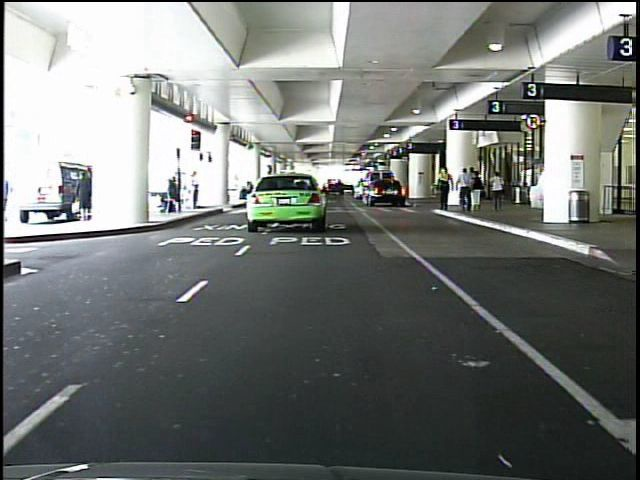person: (77, 170, 99, 222), (433, 165, 455, 216), (485, 170, 508, 217), (455, 167, 475, 216), (470, 170, 486, 215), (190, 170, 205, 213)
